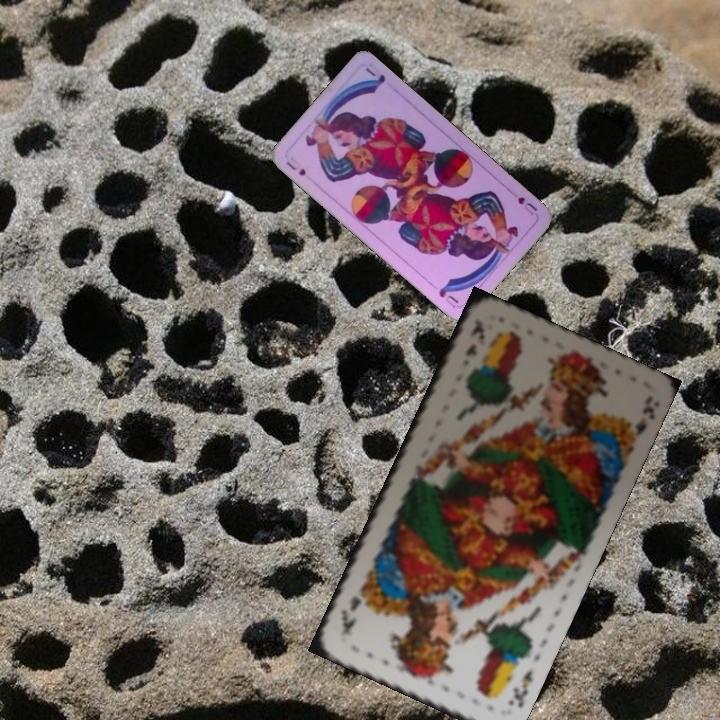EK: (504, 665, 536, 710), (461, 315, 488, 360)
SU: (506, 187, 540, 218), (282, 157, 309, 178)
